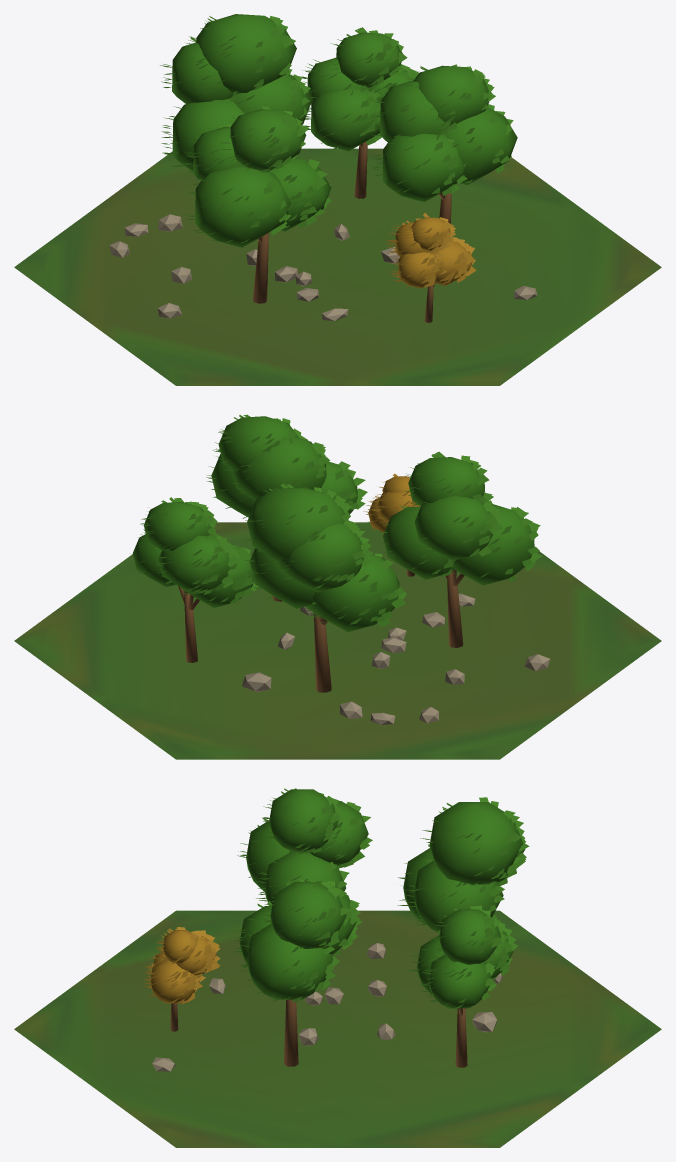
Rendered from SM_Terreno_Bosque_LOD2.fbx.
3 views of the same model, one above another, from view 1: azimuth 30°, elevation 25°; view 2: azimuth 150°, elevation 25°; view 3: azimuth 270°, elevation 25° (orthographic).
Parts seen in each view (by area): view 1: SM_Terreno_Bosque_LOD2; view 2: SM_Terreno_Bosque_LOD2; view 3: SM_Terreno_Bosque_LOD2.
Part boxes in pixels (bbox=[...]): SM_Terreno_Bosque_LOD2: bbox=[14, 14, 661, 385]; SM_Terreno_Bosque_LOD2: bbox=[14, 414, 661, 759]; SM_Terreno_Bosque_LOD2: bbox=[14, 788, 661, 1147].
Bounding box in the file's own units: 173 × 71.31 × 200.
